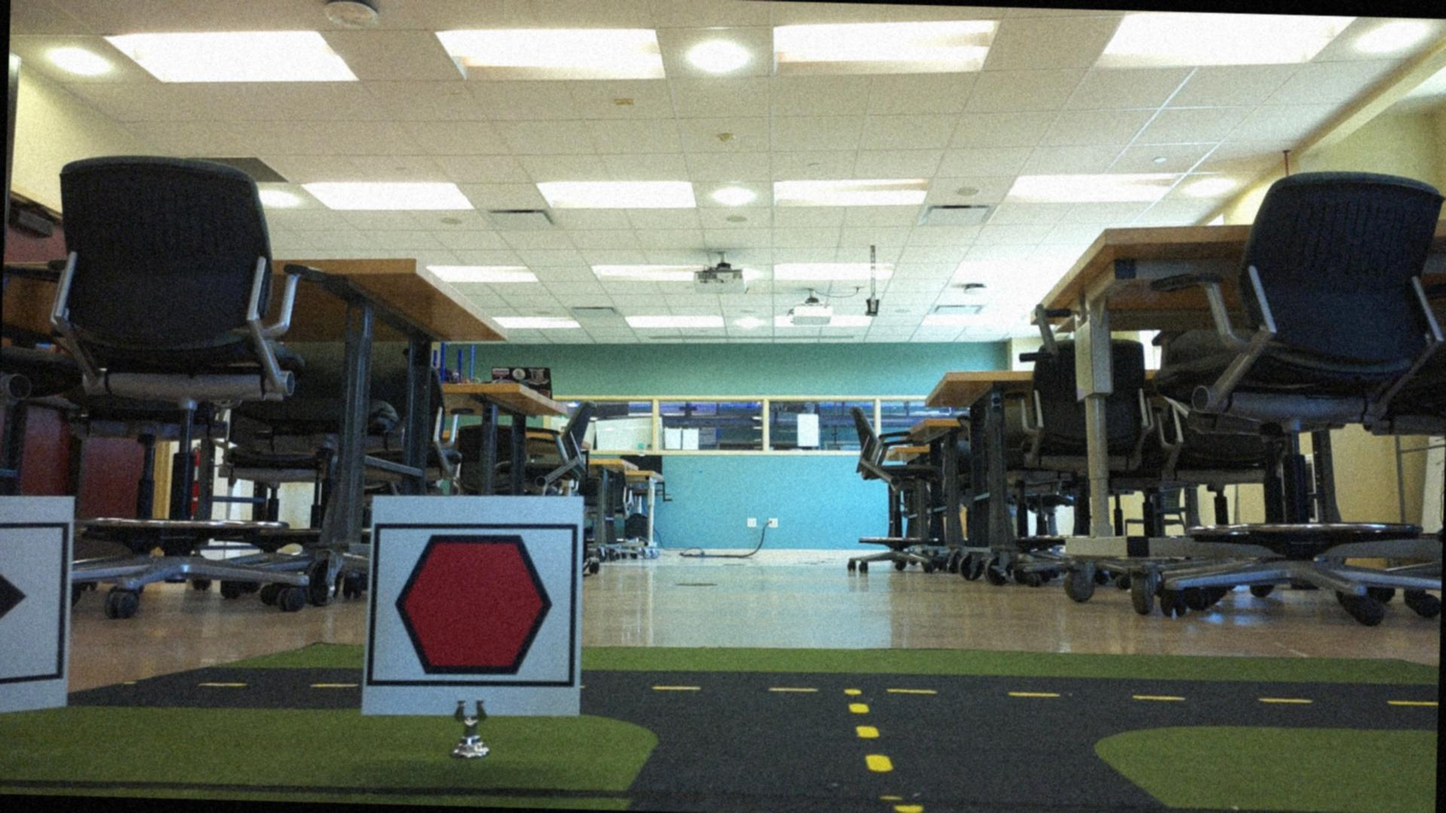stop: (376, 524, 568, 687)
yellowline: (846, 684, 895, 774)
